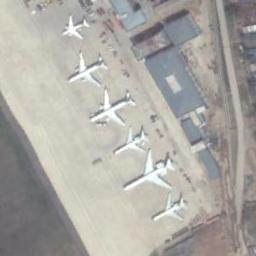Airplane: (122, 153, 180, 198), (87, 87, 135, 127), (148, 194, 200, 228), (66, 50, 108, 87), (111, 124, 149, 155), (61, 15, 90, 40)
